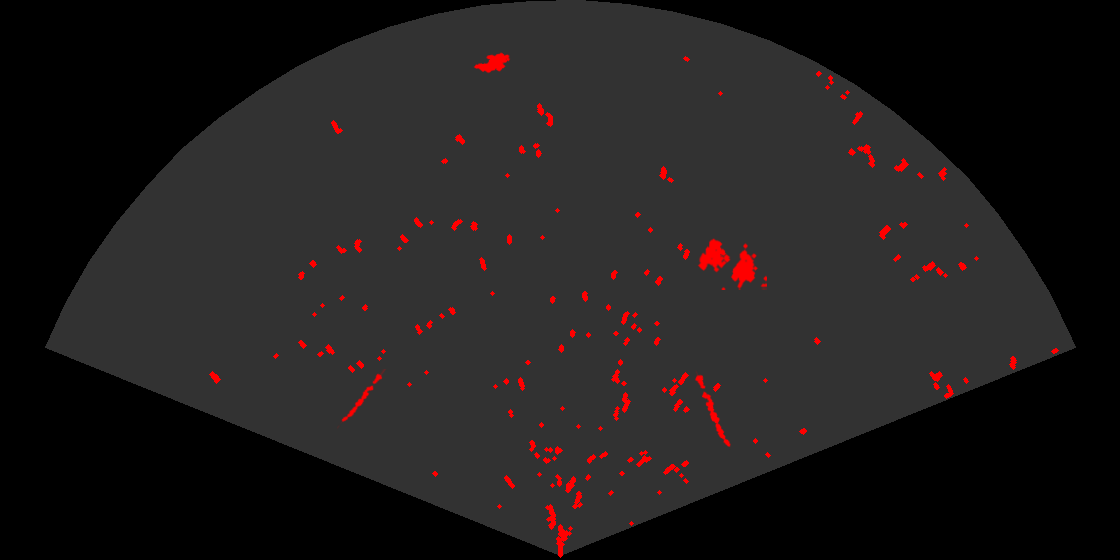AUV: (472, 51, 512, 75)
cage: (696, 237, 767, 290)
chain: (693, 370, 732, 450), (337, 369, 388, 430)
